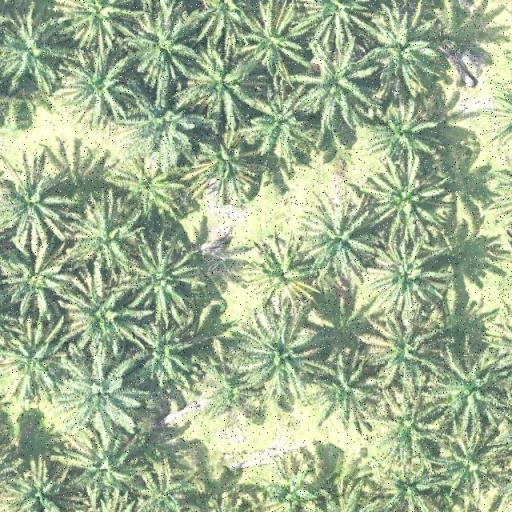Ganoderma: (255, 254, 304, 300), (130, 168, 168, 204)
